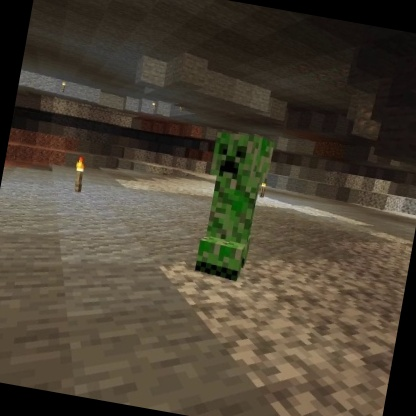creeper: (187, 126, 279, 287)
